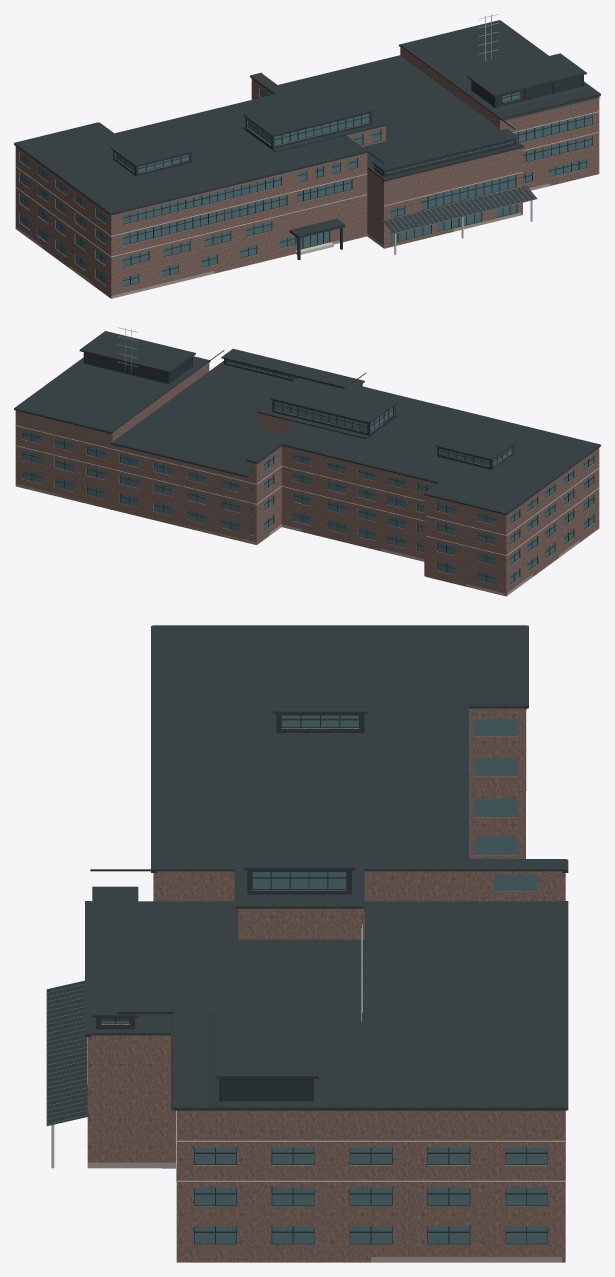
3 views of the same model, one above another, from view 1: azimuth 30°, elevation 25°; view 2: azimuth 150°, elevation 25°; view 3: azimuth 270°, elevation 25° (orthographic). The views are drawn at different scales.
Parts seen in each view (by area): view 1: student-union__roofDeck, student-union__brick, student-union__wingGlass, student-union__frame, student-union__clerestoryRoof, student-union__rightAtticRoof, student-union__roof, student-union__eaves, student-union__eastAwning, student-union__paleLintel, student-union__middleLeftReturn, student-union__base (+5 smaller); view 2: student-union__brick, student-union__roofDeck, student-union__wingGlass, student-union__clerestoryRoof, student-union__frame, student-union__rightAtticRoof, student-union__eaves, student-union__paleLintel, student-union__roof, student-union__base, student-union__rightAtticPanels, student-union__stepWall (+3 smaller); view 3: student-union__roofDeck, student-union__brick, student-union__clerestoryRoof, student-union__wingGlass, student-union__middleRightReturn, student-union__rightAtticRoof, student-union__eaves, student-union__stepWall, student-union__eastAwning, student-union__frame, student-union__centralUpperRoof, student-union__centralUpperMass (+5 smaller).
Boxes of the visible parts, left/top/right/bottom form: student-union__roofDeck: left=16, top=20, right=598, bottom=212; student-union__brick: left=15, top=47, right=599, bottom=298; student-union__wingGlass: left=20, top=89, right=592, bottom=286; student-union__frame: left=19, top=88, right=592, bottom=286; student-union__clerestoryRoof: left=111, top=89, right=519, bottom=171; student-union__rightAtticRoof: left=467, top=53, right=586, bottom=96; student-union__roof: left=113, top=75, right=581, bottom=177; student-union__eaves: left=14, top=20, right=600, bottom=215; student-union__eastAwning: left=382, top=185, right=536, bottom=233; student-union__paleLintel: left=15, top=98, right=599, bottom=257; student-union__middleLeftReturn: left=367, top=168, right=385, bottom=248; student-union__base: left=16, top=174, right=598, bottom=298; student-union__brick: left=15, top=410, right=599, bottom=596; student-union__roofDeck: left=16, top=350, right=598, bottom=512; student-union__wingGlass: left=23, top=361, right=593, bottom=583; student-union__clerestoryRoof: left=221, top=348, right=516, bottom=460; student-union__frame: left=22, top=360, right=594, bottom=584; student-union__rightAtticRoof: left=79, top=331, right=195, bottom=372; student-union__eaves: left=14, top=356, right=600, bottom=514; student-union__paleLintel: left=15, top=425, right=599, bottom=555; student-union__roof: left=191, top=357, right=513, bottom=469; student-union__base: left=15, top=484, right=597, bottom=596; student-union__rightAtticPanels: left=83, top=352, right=191, bottom=383; student-union__stepWall: left=110, top=362, right=209, bottom=442; student-union__roofDeck: left=87, top=626, right=565, bottom=1106; student-union__brick: left=87, top=708, right=565, bottom=1262; student-union__clerestoryRoof: left=92, top=655, right=367, bottom=1017; student-union__wingGlass: left=101, top=715, right=547, bottom=1243; student-union__middleRightReturn: left=87, top=1035, right=175, bottom=1162; student-union__rightAtticRoof: left=215, top=988, right=318, bottom=1078; student-union__eaves: left=85, top=625, right=568, bottom=1110; student-union__stepWall: left=153, top=871, right=465, bottom=901; student-union__eastAwning: left=46, top=980, right=89, bottom=1125; student-union__frame: left=101, top=715, right=547, bottom=1244; student-union__centralUpperRoof: left=234, top=800, right=364, bottom=908; student-union__centralUpperMass: left=238, top=908, right=364, bottom=939.
Bounding box in the file's own units: 88.51 × 23.75 × 41.36.
9 materials, 1 textured.
